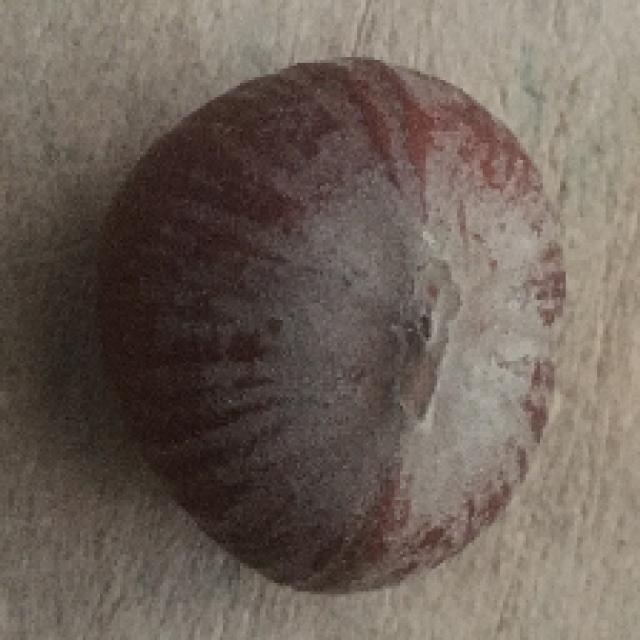qualityHazelnut: (86, 55, 570, 590)
